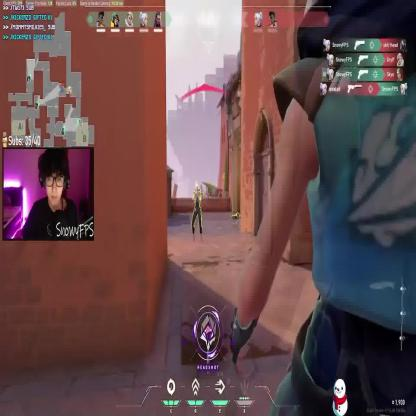enemy: (191, 180, 204, 242)
enemy_head: (194, 182, 199, 194)
